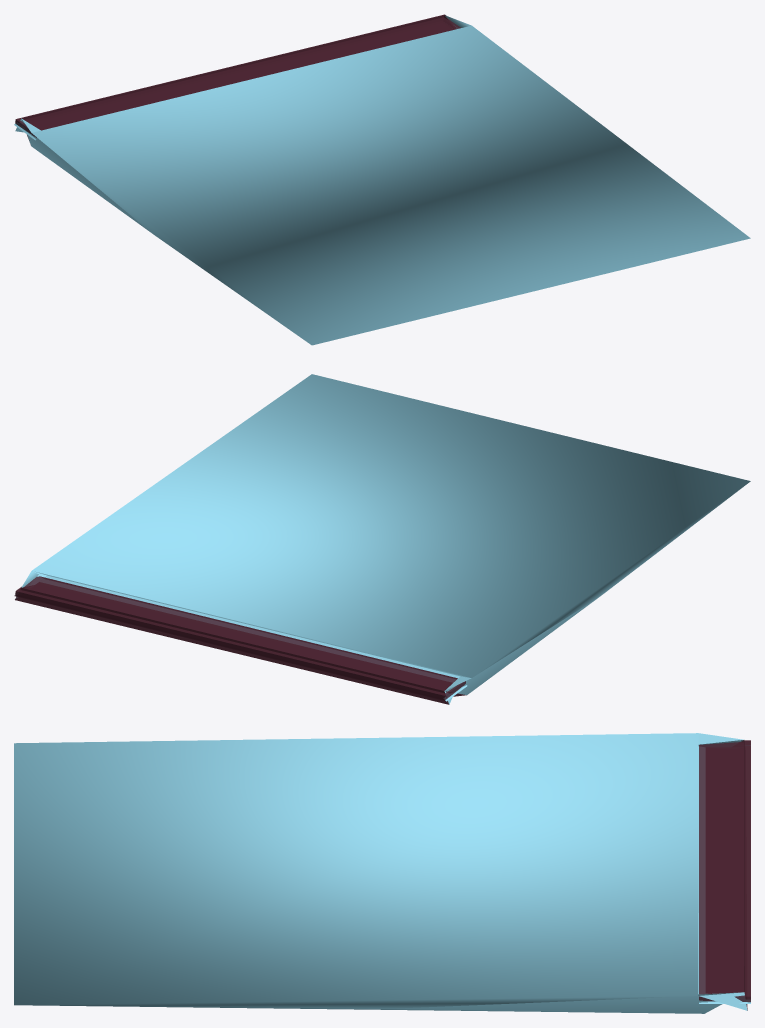
The model's file is dbFrame_t.fbx.
3 renders of one model, top to bottom at view 1: azimuth 30°, elevation 25°; view 2: azimuth 150°, elevation 25°; view 3: azimuth 270°, elevation 25°, orthographic. The views are drawn at different scales.
Visible parts, largest first — view 1: ChamferBox001; view 2: ChamferBox001; view 3: ChamferBox001.
Part boxes in pixels (x1,y1,x2,y2): ChamferBox001: (14, 14, 750, 345); ChamferBox001: (14, 374, 750, 704); ChamferBox001: (14, 733, 750, 1013).
Bounding box in the file's own units: 52.62 × 1.77 × 61.39.
